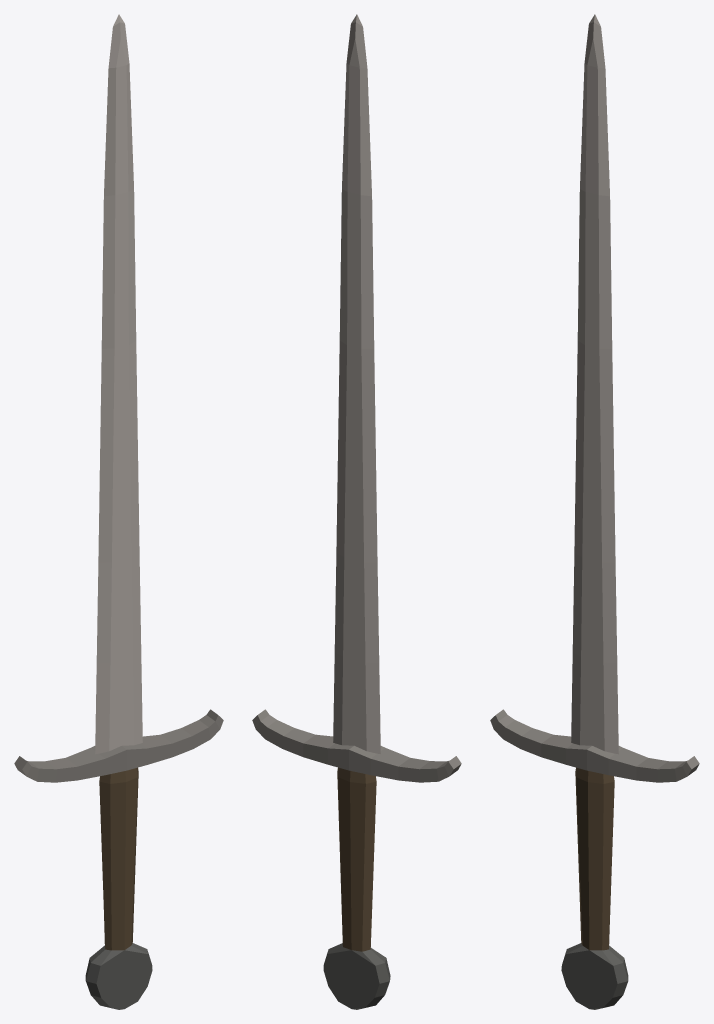
File: SM_pwe_medieval_sword_08.fbx
3 views of the same model, side by side, from view 1: azimuth 30°, elevation 25°; view 2: azimuth 150°, elevation 25°; view 3: azimuth 330°, elevation 25° (orthographic).
Parts seen in each view (by area): view 1: SM_pwe_medieval_sword_08; view 2: SM_pwe_medieval_sword_08; view 3: SM_pwe_medieval_sword_08.
Part boxes in pixels (left/top/right/bottom): SM_pwe_medieval_sword_08: left=14, top=14, right=223, bottom=1009; SM_pwe_medieval_sword_08: left=252, top=14, right=461, bottom=1009; SM_pwe_medieval_sword_08: left=490, top=14, right=699, bottom=1009.
Bounding box in the file's own units: 20.56 × 97.12 × 2.85.
